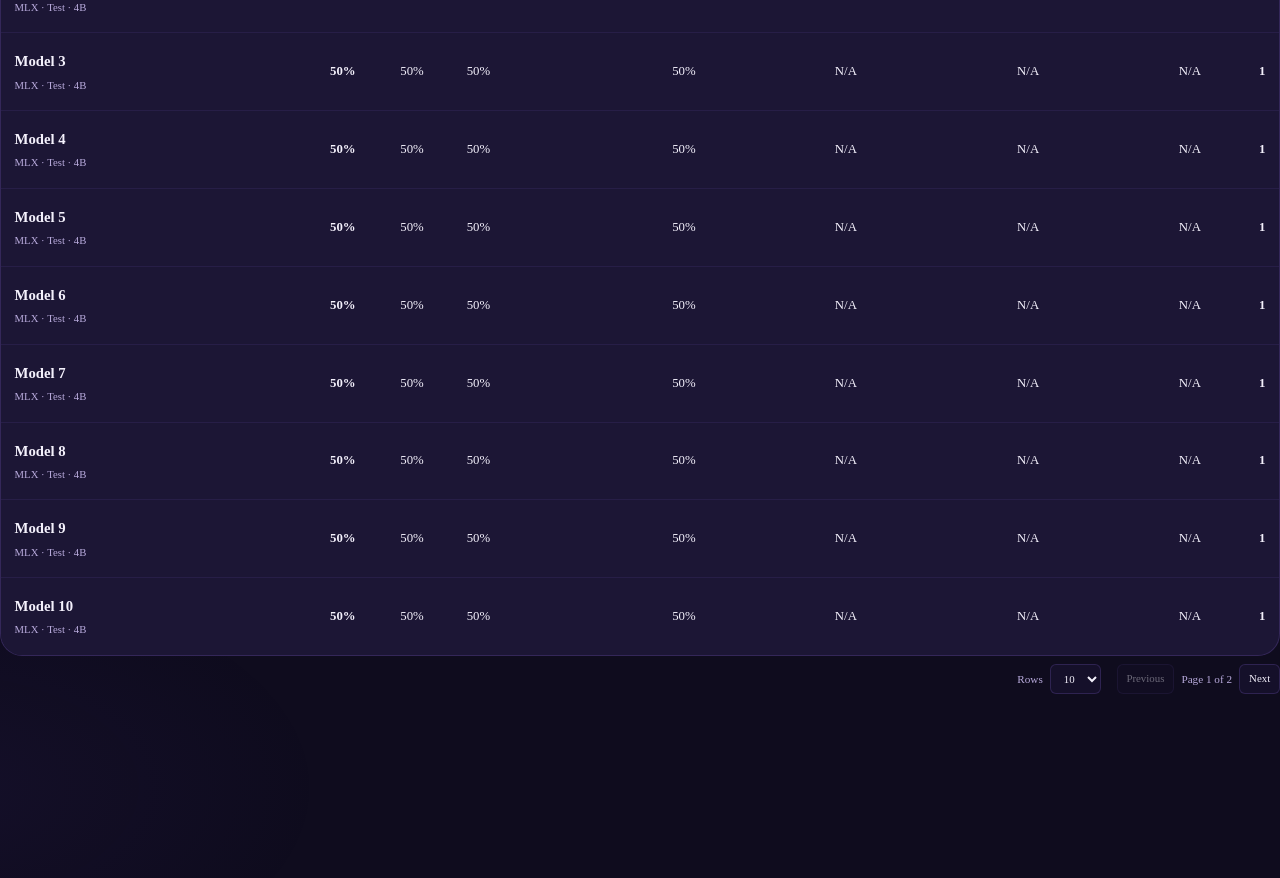
Test: leaderboard pagination › shows ten rows at a time and moves to the next page
The image size is (1280, 878).
(page scrolled)
Check: the text "Model 11" is not shown
Click the button "Next" at (1260, 679), box [1239,664,1279,694]
(page scrolled)
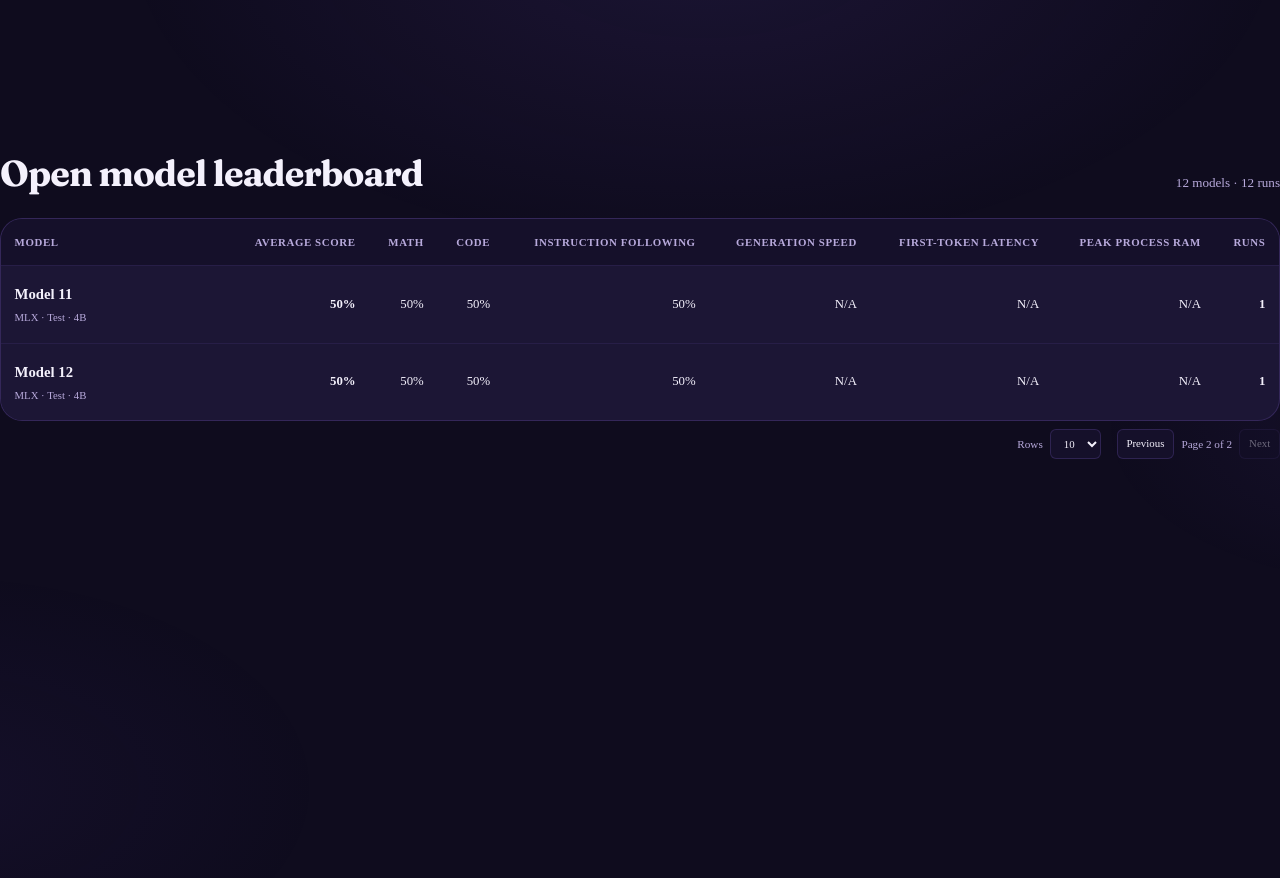
Check: the text "Page 2 of 2" is shown, box [1181,435,1232,454]
Check: the number of links "Model 11" is 2
Check: the link "Model 10" is gone
